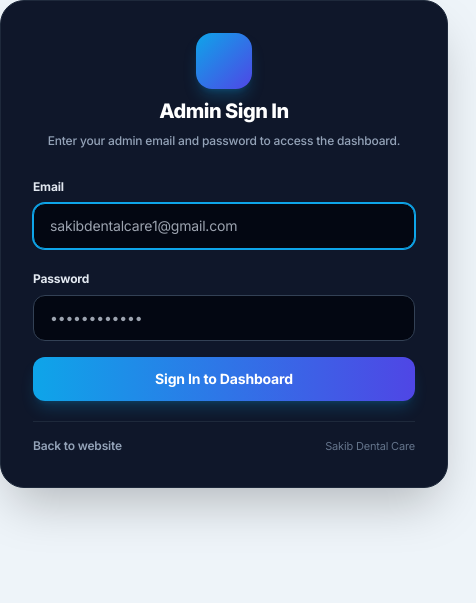
Test: AdminAuthForm › displays server error alert on invalid credentials
This screenshot has width=476, height=603.
In the field labelled "Email": (224, 226) [33,203,415,249], type "wrong@gmail.com"
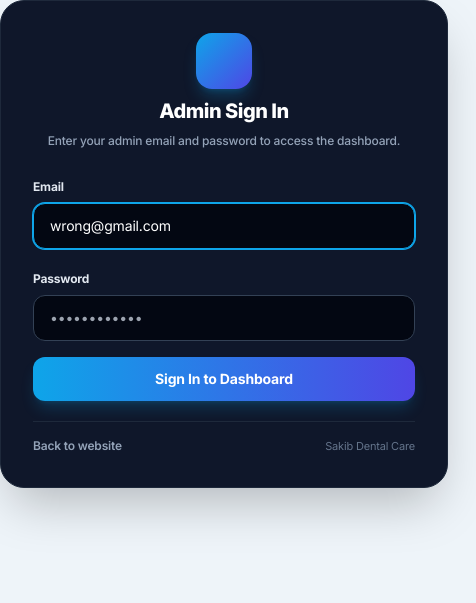
In the password field labelled "Password": (224, 318) [33,295,415,341], type "WrongPassword"
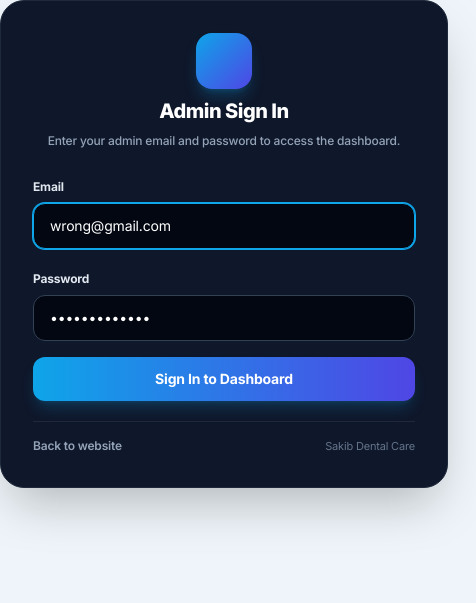
Click the button "Sign In to Dashboard": (224, 379) [33,357,415,401]
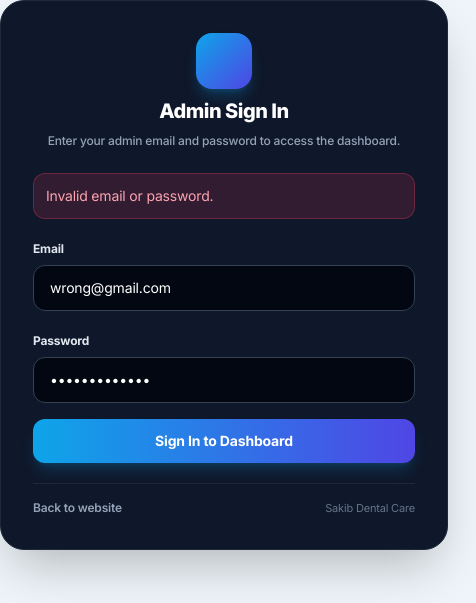
Result: the message reads "Invalid email or password." at [46,187,213,204]
